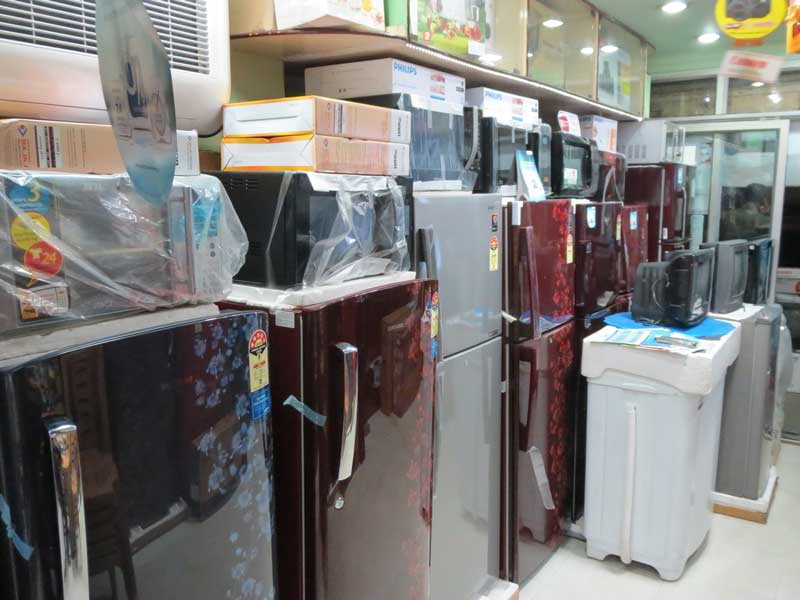Refrigerator: (3, 375, 275, 600), (294, 309, 436, 600), (508, 205, 568, 542)
